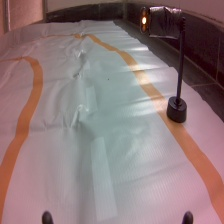yellow: (139, 4, 189, 124)
